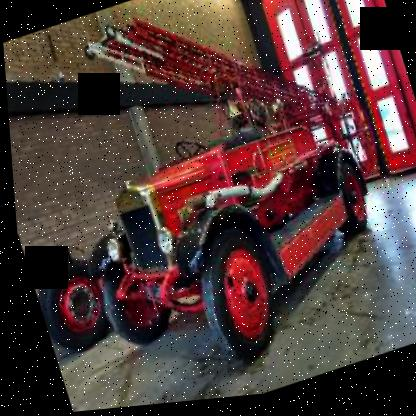emergency: (17, 0, 414, 414)
